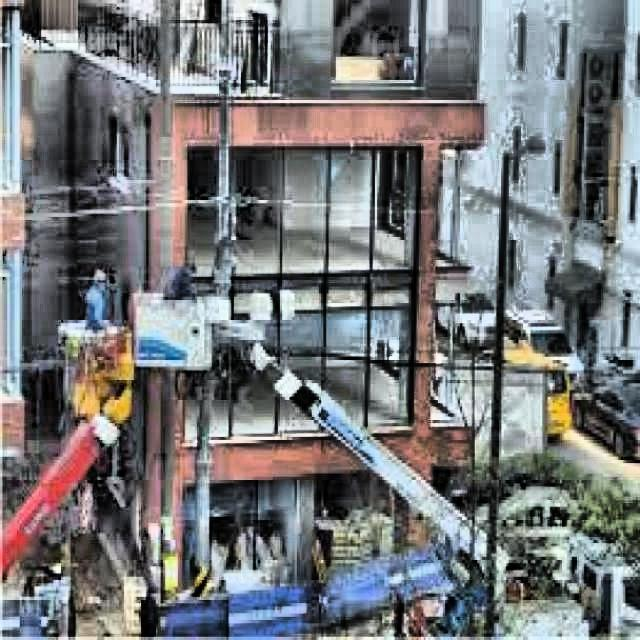bull_dozer/loader/grader: (134, 292, 511, 640), (0, 320, 134, 586)
person: (83, 268, 111, 330), (165, 260, 198, 298)
